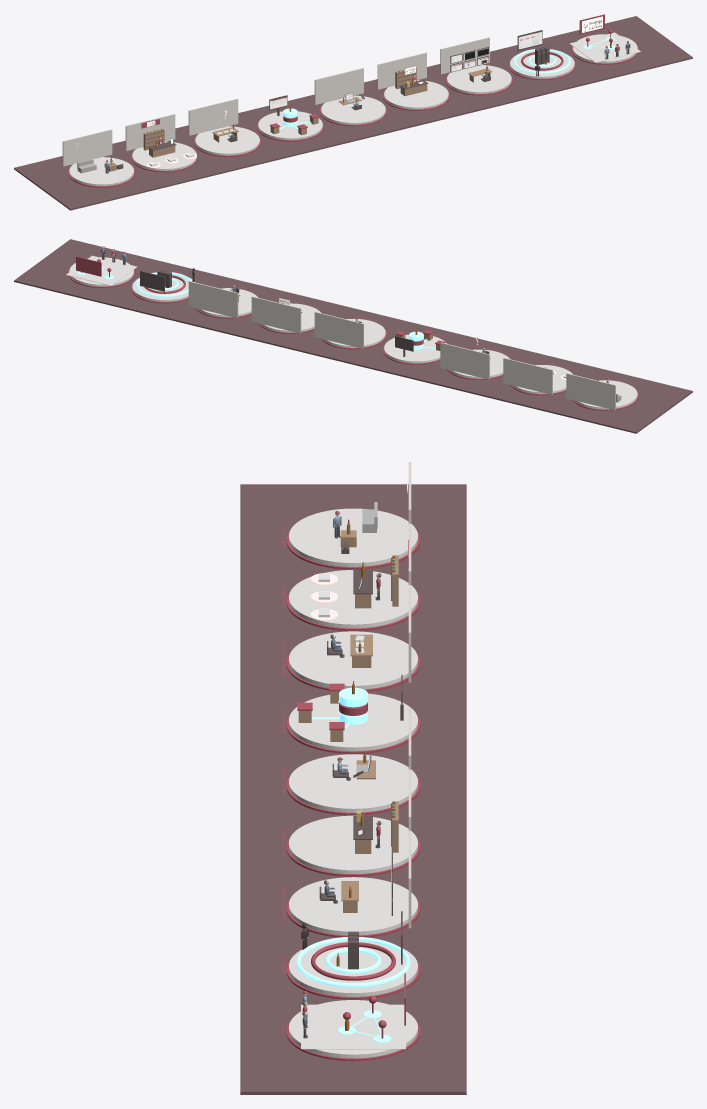
File: diorama.glb
3 views of the same model, one above another, from view 1: azimuth 30°, elevation 25°; view 2: azimuth 150°, elevation 25°; view 3: azimuth 270°, elevation 25° (orthographic). The views are drawn at different scales.
Parts seen in each view (by area): view 1: ground, S4_plate, S6_plate, back_wall.002, S2_plate, back_wall, back_wall.003, S0_plate, S5_plate, S3_plate, map_plane, back_wall.004 (+7 smaller); view 2: ground, back_wall.005, back_wall.004, back_wall, back_wall.002, back_wall.003, back_wall.001, S3_plate, map_plane, S7_plate, S4_plate, S0_plate (+7 smaller); view 3: ground, S4_plate, S6_plate, S0_plate, S2_plate, S5_plate, S3_plate, S1_plate, map_plane, S7_plate, S8_plate, shield_ring0.
Boxes of the visible parts, x1,y1,x2,y2 form: ground: (14, 16, 692, 210); S4_plate: (321, 95, 385, 124); S6_plate: (447, 65, 511, 93); back_wall.002: (188, 98, 238, 135); S2_plate: (195, 126, 259, 155); back_wall: (62, 129, 112, 166); back_wall.003: (314, 68, 363, 104); S0_plate: (69, 157, 133, 186); S5_plate: (384, 80, 448, 109); S3_plate: (258, 111, 322, 140); map_plane: (569, 32, 640, 62); back_wall.004: (377, 52, 426, 89); ground: (14, 239, 692, 433); back_wall.005: (188, 281, 238, 318); back_wall.004: (251, 296, 301, 333); back_wall: (566, 373, 615, 410); back_wall.002: (440, 342, 489, 379); back_wall.003: (314, 311, 363, 348); back_wall.001: (503, 358, 552, 394); S3_plate: (384, 334, 446, 363); map_plane: (66, 255, 137, 285); S7_plate: (132, 274, 195, 301); S4_plate: (324, 318, 385, 347); S0_plate: (575, 380, 637, 409); ground: (240, 484, 466, 1094); S4_plate: (289, 754, 417, 812); S6_plate: (289, 877, 417, 935); S0_plate: (289, 508, 417, 566); S2_plate: (289, 631, 417, 689); S5_plate: (289, 815, 417, 873); S3_plate: (289, 693, 417, 751); S1_plate: (289, 570, 417, 628); map_plane: (301, 1004, 405, 1049); S7_plate: (289, 941, 417, 996); S8_plate: (289, 1000, 417, 1058); shield_ring0: (296, 937, 410, 987).
Bounding box in the file's own units: 89 × 4.46 × 14.
43 materials, 13 textured.
